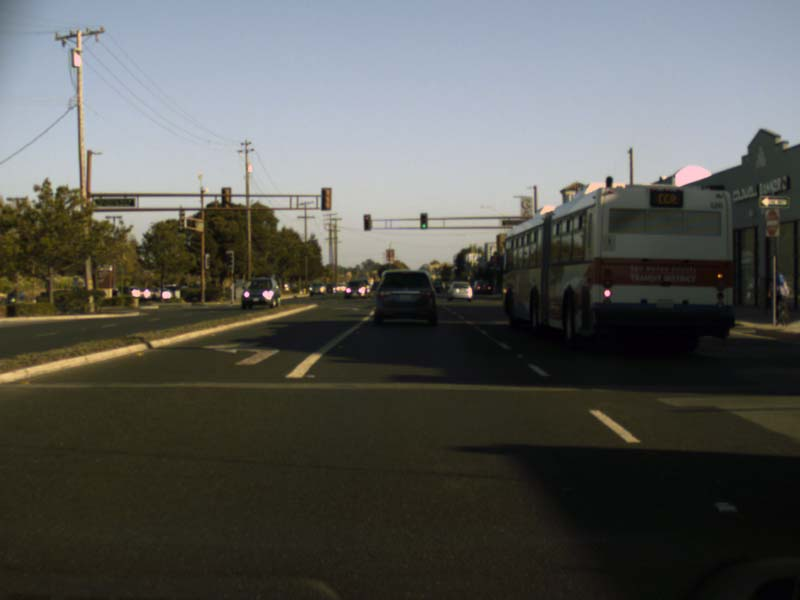Green: (419, 212, 427, 228)
Red: (363, 214, 371, 229)
